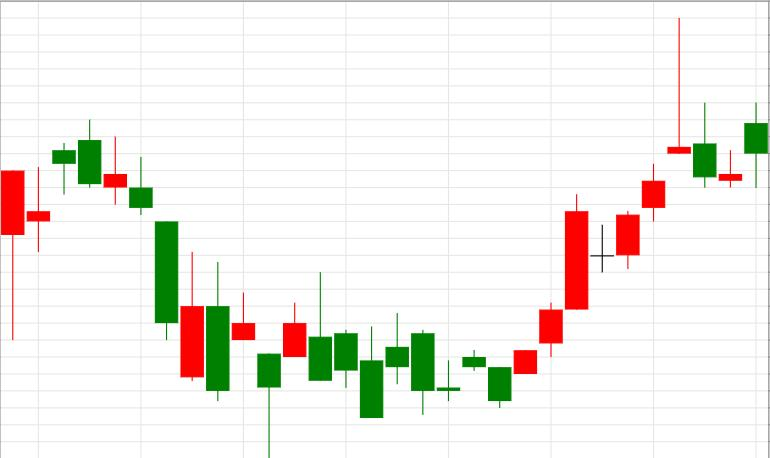hammer_rise: (53, 121, 280, 458)
shooting_star_fall: (514, 18, 717, 374)
